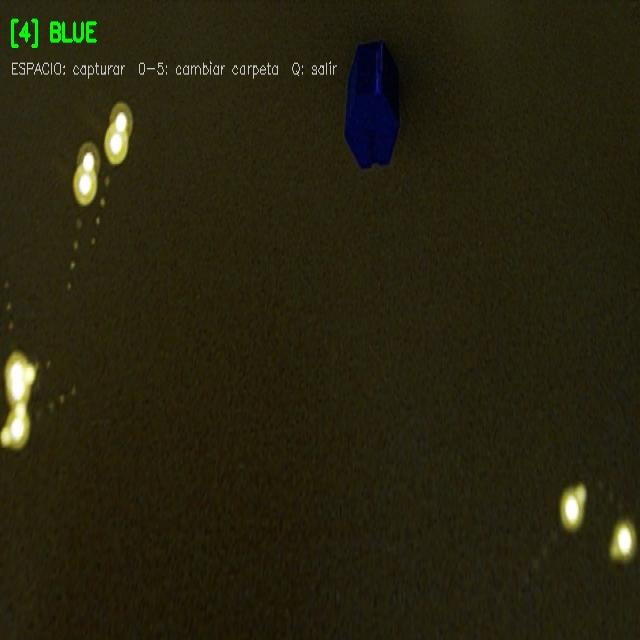blue: (343, 33, 406, 172)
